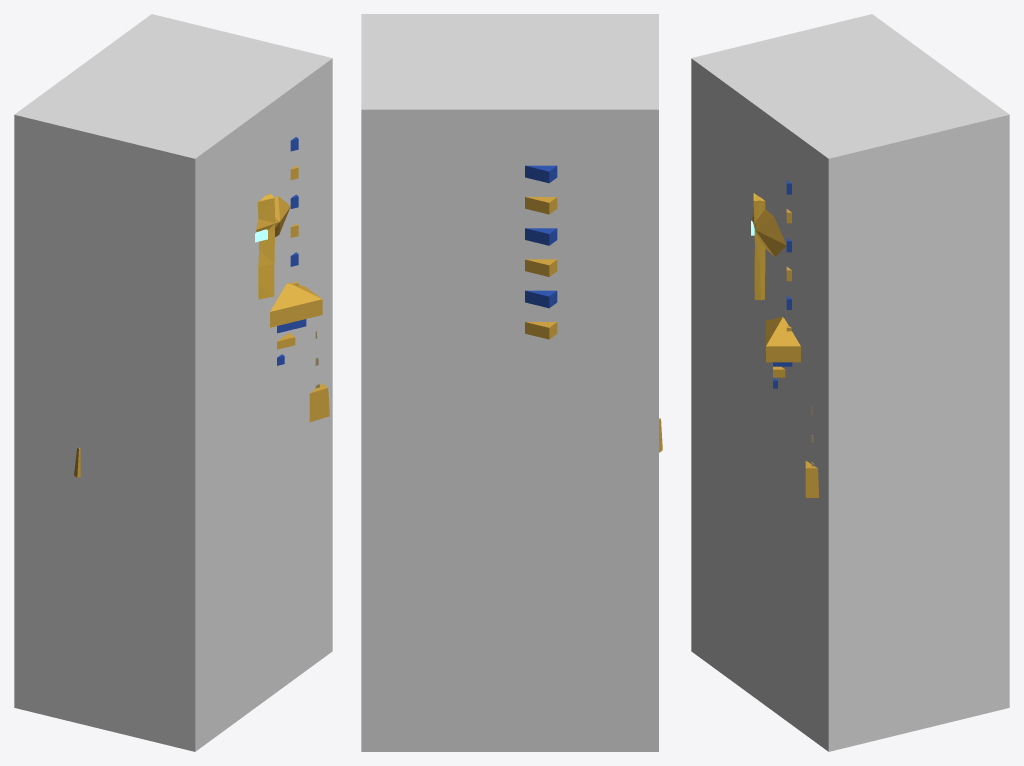
The model's file is desert_cursed_pharaoh.fbx.
The picture shows the model from 3 angles, left to right: view 1: azimuth 30°, elevation 25°; view 2: azimuth 150°, elevation 25°; view 3: azimuth 270°, elevation 25°; orthographic projection. The views are drawn at different scales.
Parts seen in each view (by area): view 1: Root__0.01_6.74_0.45__7.15_17.00_5.43, Head__Torso__0.00_9.51_0.00, Torso__Root__0.00_5.69_0.00, ArmL__Torso__-2.53_8.99_0.00; view 2: Root__0.01_6.74_0.45__7.15_17.00_5.43, Head__Torso__0.00_9.51_0.00; view 3: Root__0.01_6.74_0.45__7.15_17.00_5.43, Head__Torso__0.00_9.51_0.00, Torso__Root__0.00_5.69_0.00.
Part boxes in pixels (x1,y1,x2,y2): Root__0.01_6.74_0.45__7.15_17.00_5.43: (14,14,332,751); Head__Torso__0.00_9.51_0.00: (256,137,298,299); Torso__Root__0.00_5.69_0.00: (270,282,322,365); ArmL__Torso__-2.53_8.99_0.00: (309,331,329,422); Root__0.01_6.74_0.45__7.15_17.00_5.43: (361,14,658,751); Head__Torso__0.00_9.51_0.00: (525,165,557,339); Root__0.01_6.74_0.45__7.15_17.00_5.43: (691,14,1009,751); Head__Torso__0.00_9.51_0.00: (752,180,791,331); Torso__Root__0.00_5.69_0.00: (766,317,800,388).
Size of the model in its own units: 249 by 476 by 232.
2 materials, 1 textured.
